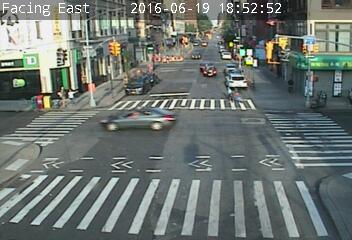neg: (146, 117, 161, 136), (128, 107, 142, 124), (98, 105, 111, 123), (164, 112, 175, 127), (116, 107, 124, 118)
pos: (62, 85, 79, 107), (228, 85, 244, 105), (222, 85, 236, 104)
